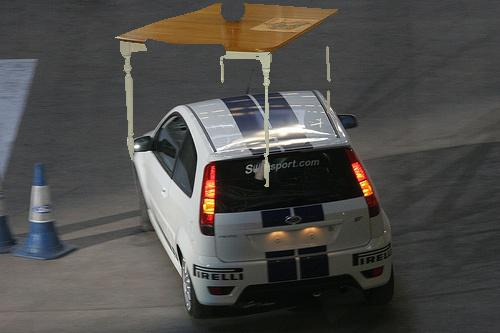tampered: (116, 4, 338, 187)
